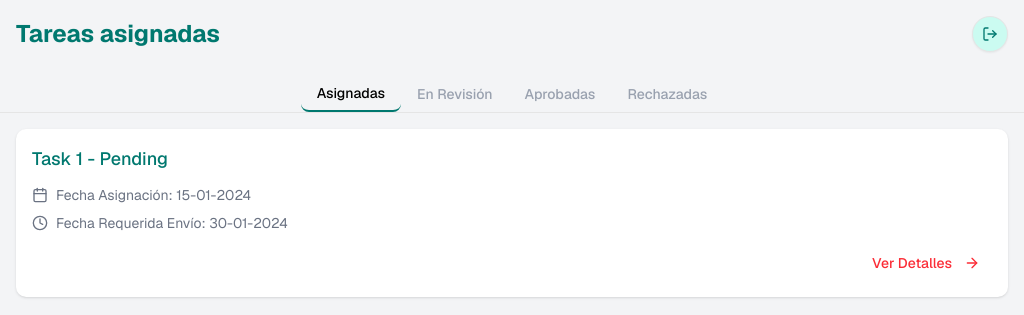
Test: TasksList › should display empty state when tasks exist but none match current filter
// Switch to review tab - should show no tasks
Click the button "En Revisión". click: (455, 94)
box: x1=401 y1=76 x2=509 y2=112
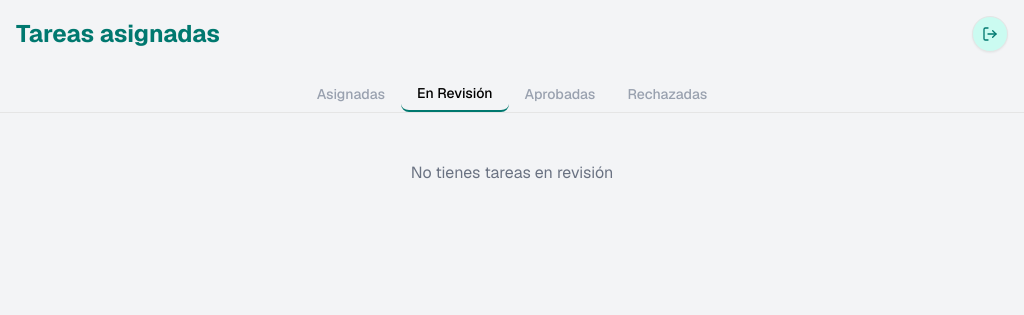
Expected: the text "No tienes tareas en revisión" is shown, x1=411 y1=162 x2=613 y2=183
